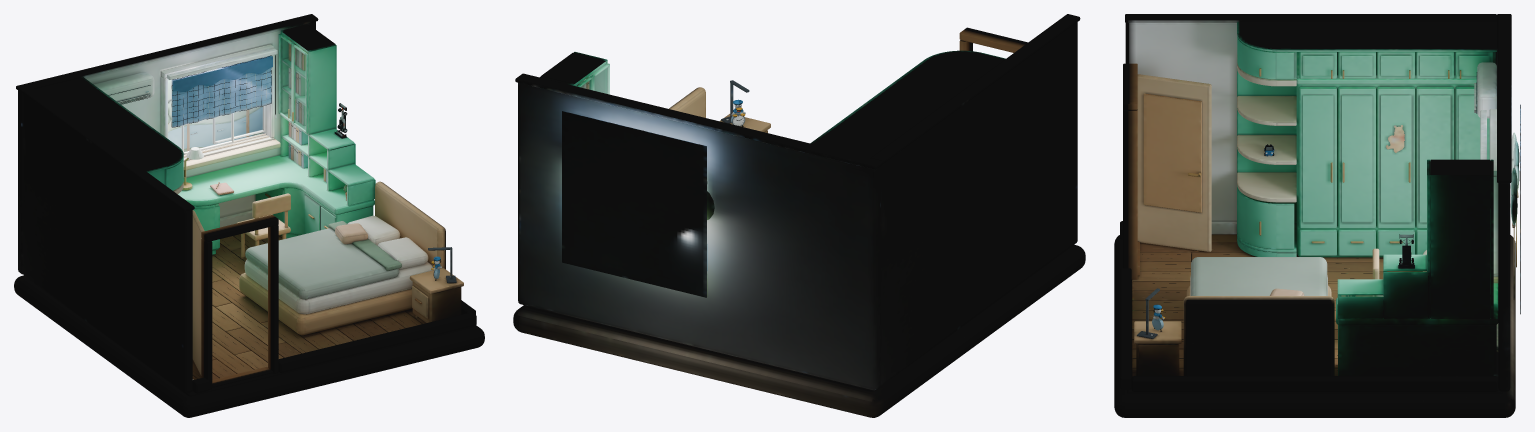
The model's file is room-01.glb.
The picture shows the model from 3 angles, left to right: view 1: azimuth 30°, elevation 25°; view 2: azimuth 150°, elevation 25°; view 3: azimuth 270°, elevation 25°; orthographic projection. The views are drawn at different scales.
Parts seen in each view (by area): view 1: Room01_Baked; view 2: Room01_Baked; view 3: Room01_Baked.
Part boxes in pixels (left/top/right/bottom): Room01_Baked: left=14, top=14, right=484, bottom=417; Room01_Baked: left=513, top=14, right=1085, bottom=417; Room01_Baked: left=1114, top=14, right=1520, bottom=417.
Size of the model in its own units: 4.38 by 2.89 by 4.43.
3 materials, 3 textured.
